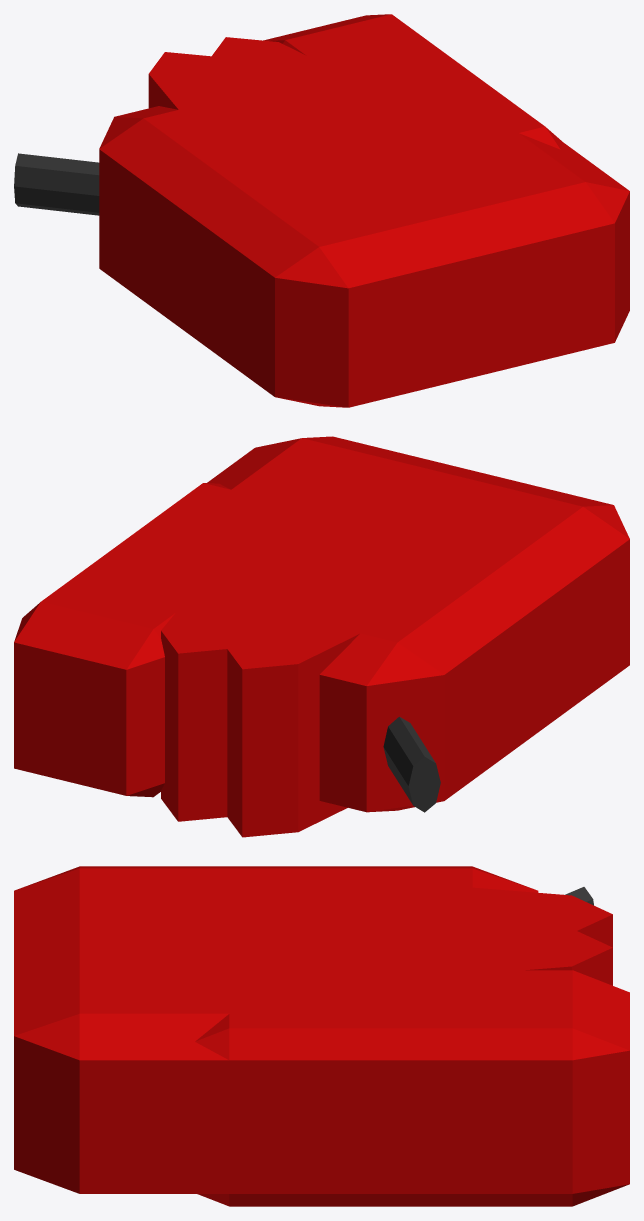
The model's file is Item_Fuel.fbx.
3 renders of one model, top to bottom at view 1: azimuth 30°, elevation 25°; view 2: azimuth 150°, elevation 25°; view 3: azimuth 270°, elevation 25°, orthographic. The views are drawn at different scales.
Visible parts, largest first — view 1: block_bevel (×2), cylinderVertex_half (×2), cylinderVertex; view 2: block_bevel (×2), cylinderVertex_half (×2), cylinderVertex; view 3: block_bevel (×2), cylinderVertex_half (×2).
Boxes of the visible parts, box(x1,y1,x2,y2) form: block_bevel (×2): box(99, 14, 629, 407); cylinderVertex_half (×2): box(148, 37, 336, 109); cylinderVertex: box(14, 153, 99, 215); block_bevel (×2): box(14, 436, 629, 812); cylinderVertex_half (×2): box(161, 593, 359, 837); cylinderVertex: box(383, 716, 440, 812); block_bevel (×2): box(14, 866, 629, 1206); cylinderVertex_half (×2): box(472, 887, 612, 985).
Size of the model in its own units: 7.81 by 3 by 9.4.
